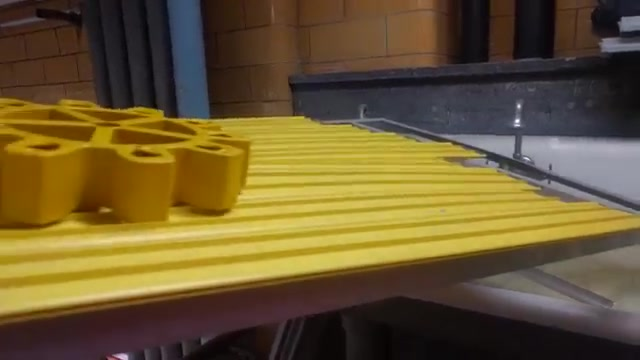gear: (1, 87, 256, 238)
